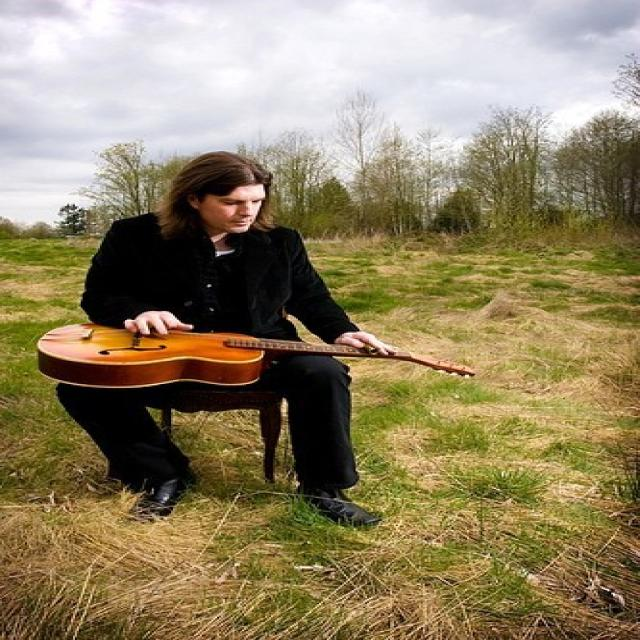cello: (34, 317, 480, 388)
